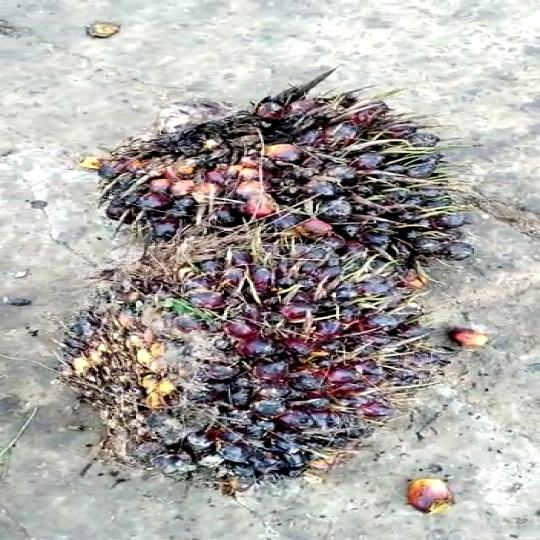kurang masak: (60, 232, 427, 492), (105, 100, 467, 290)
